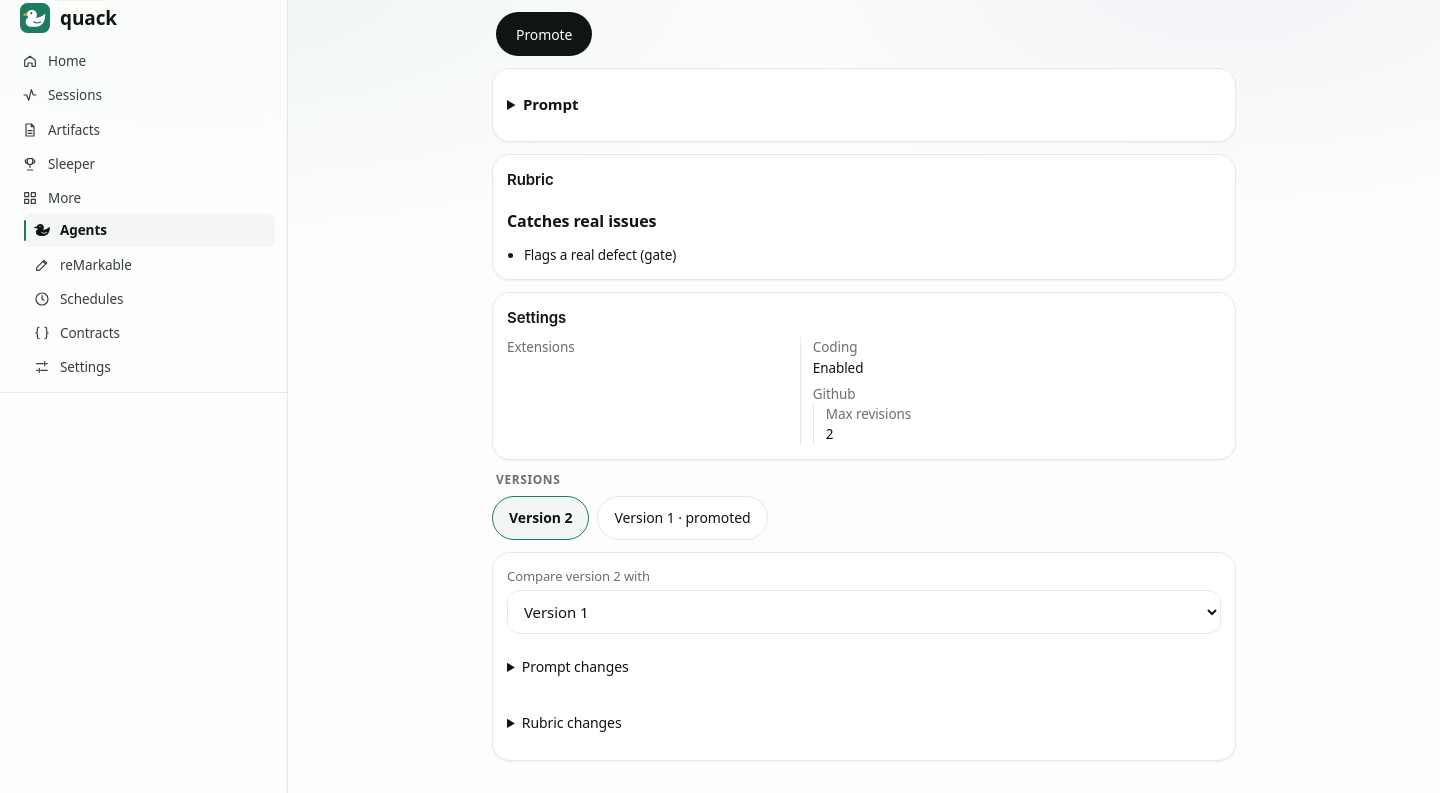
Scenario: the diff reads the prompt change against the version picked
(page scrolled)
Click the heading "Prompt changes": (575,666) left=522, top=657, right=629, bottom=676
(page scrolled)
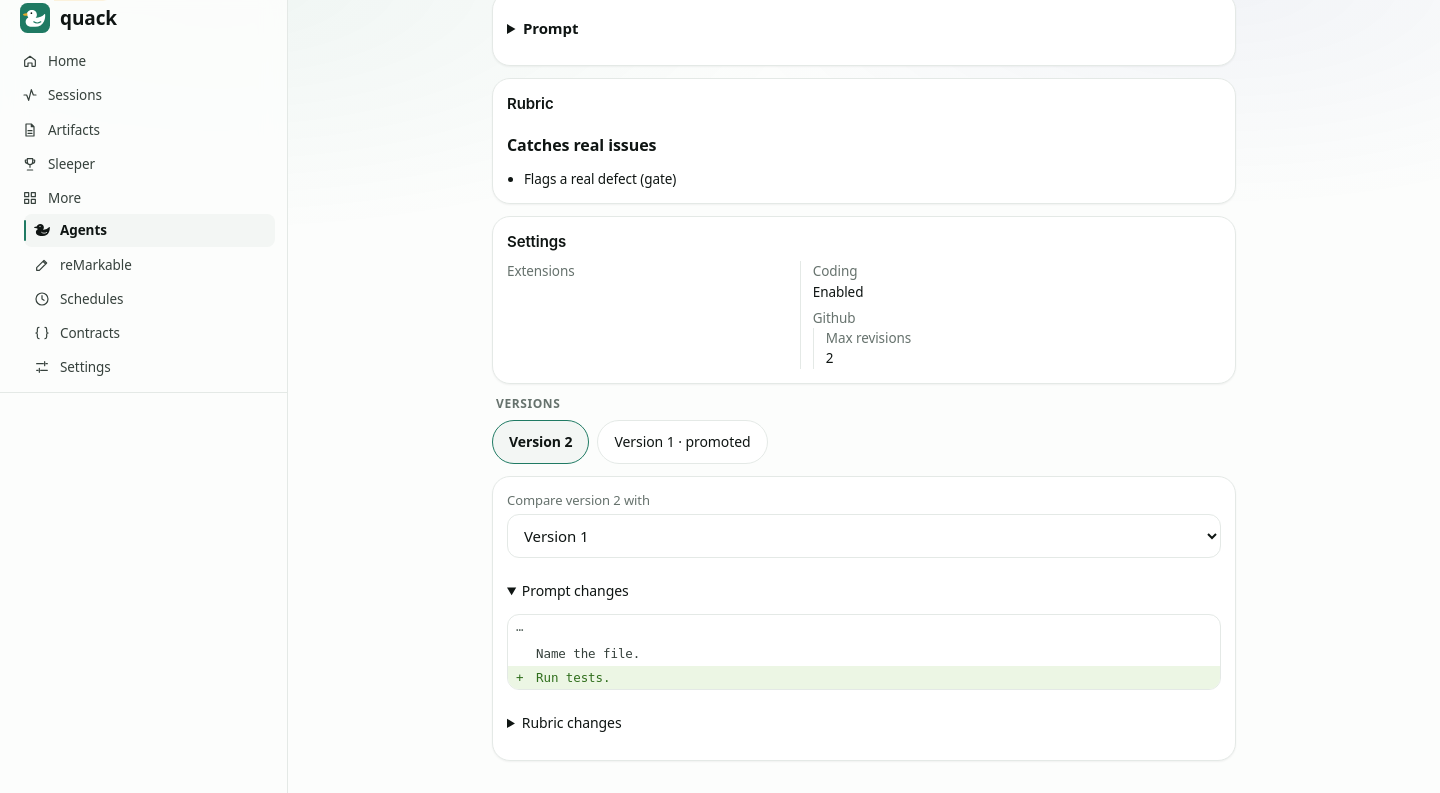
Expected: the text "Run tests." is shown, left=535, top=669, right=610, bottom=685
Click the heading "Rubric changes": (572,723) left=522, top=713, right=622, bottom=732
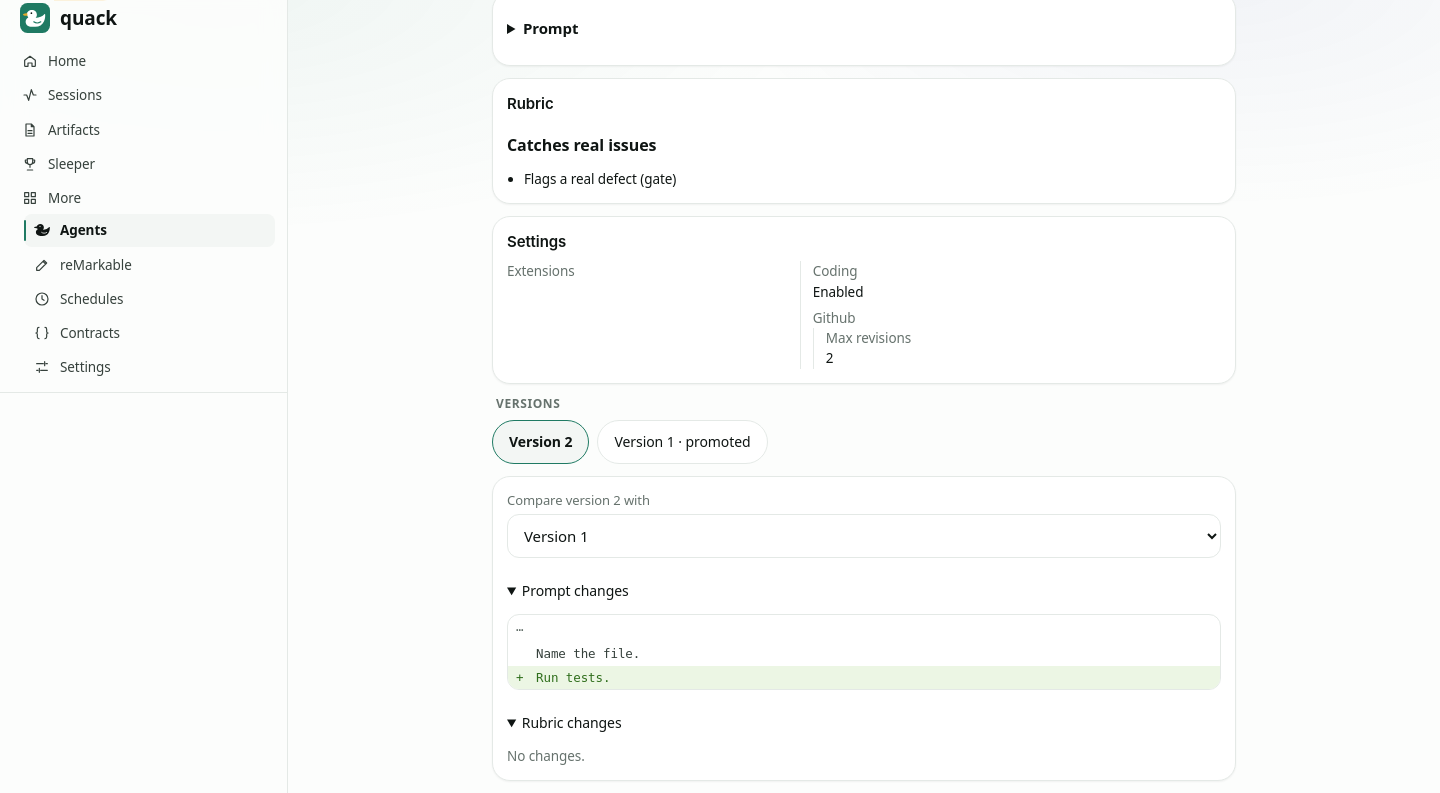
Expected: the text "No changes." is shown, left=507, top=747, right=585, bottom=765
